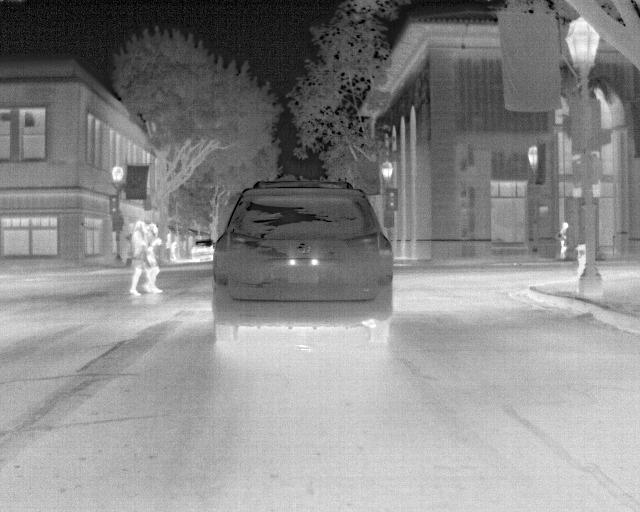bicycle: (213, 177, 396, 348), (188, 238, 216, 262)
empty: (127, 219, 147, 297), (146, 221, 163, 296), (558, 218, 572, 261)
